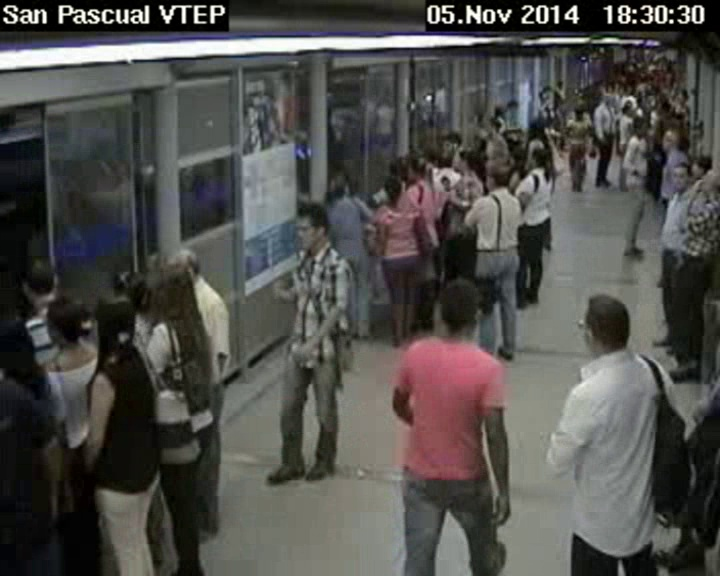person: (578, 290, 630, 357), (141, 251, 189, 315), (95, 287, 136, 349), (436, 277, 475, 342), (41, 297, 89, 348), (293, 201, 328, 251), (1, 320, 39, 365), (20, 253, 56, 299), (164, 241, 203, 280), (485, 158, 510, 190), (382, 172, 406, 204), (327, 168, 356, 194), (667, 160, 690, 188), (456, 148, 479, 174), (404, 155, 425, 183), (530, 145, 551, 172), (690, 155, 711, 178), (661, 126, 678, 152), (530, 117, 547, 142), (632, 116, 648, 138), (442, 133, 460, 152), (437, 148, 452, 170), (488, 117, 501, 136), (600, 91, 615, 106), (658, 100, 671, 115), (573, 106, 584, 123), (675, 88, 686, 105), (508, 99, 519, 114), (674, 111, 684, 125), (556, 79, 567, 91), (621, 104, 630, 117), (538, 90, 548, 100)
